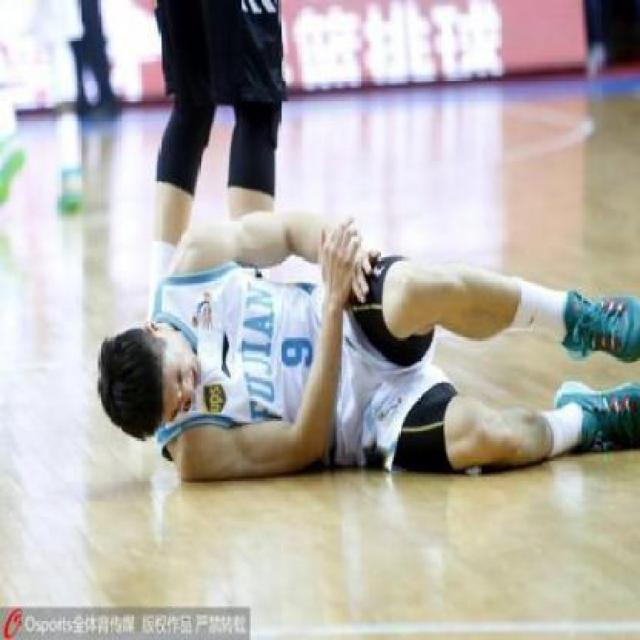fall: (85, 183, 637, 499)
